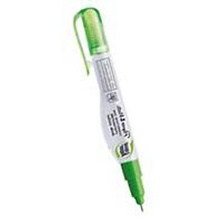correction_fluid: (72, 4, 146, 215)
